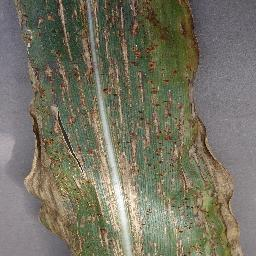Gray_Leaf_Spot: (13, 0, 242, 256)
